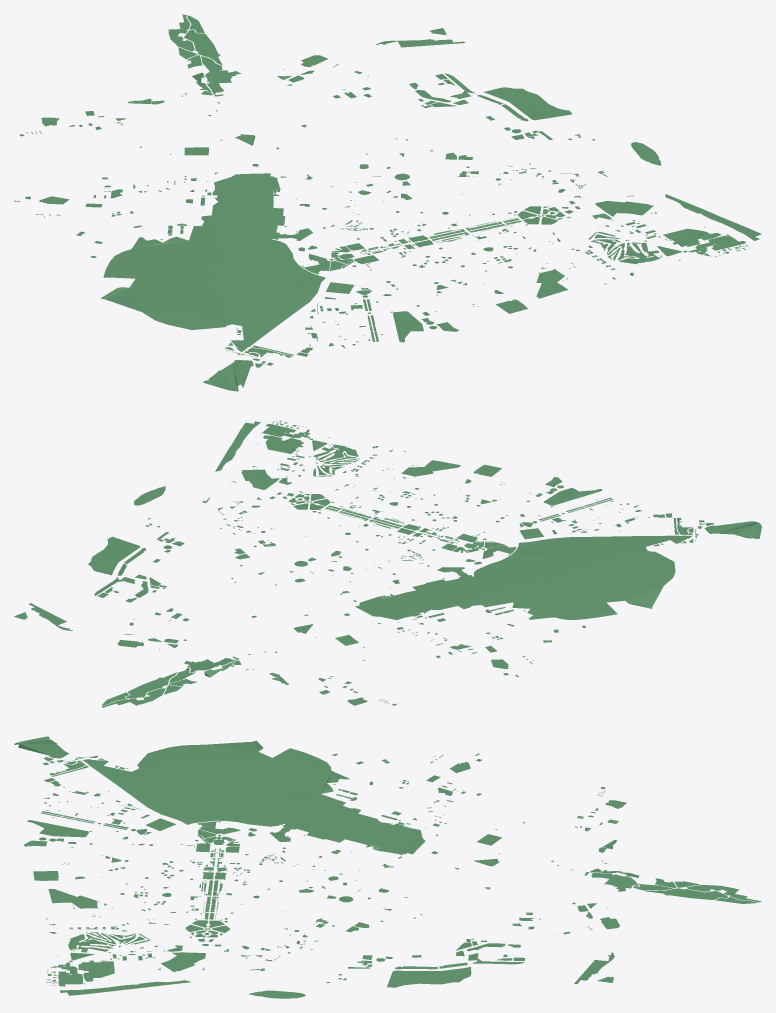
The model's file is green.glb.
3 views of the same model, one above another, from view 1: azimuth 30°, elevation 25°; view 2: azimuth 150°, elevation 25°; view 3: azimuth 270°, elevation 25° (orthographic). The views are drawn at different scales.
Visible parts, largest first — view 1: green; view 2: green; view 3: green.
Part boxes in pixels (x1,y1,x2,y2): green: (14,14,761,391); green: (14,420,761,707); green: (14,736,761,998).
Bounding box in the file's own units: 9921 × 64.16 × 11945.
